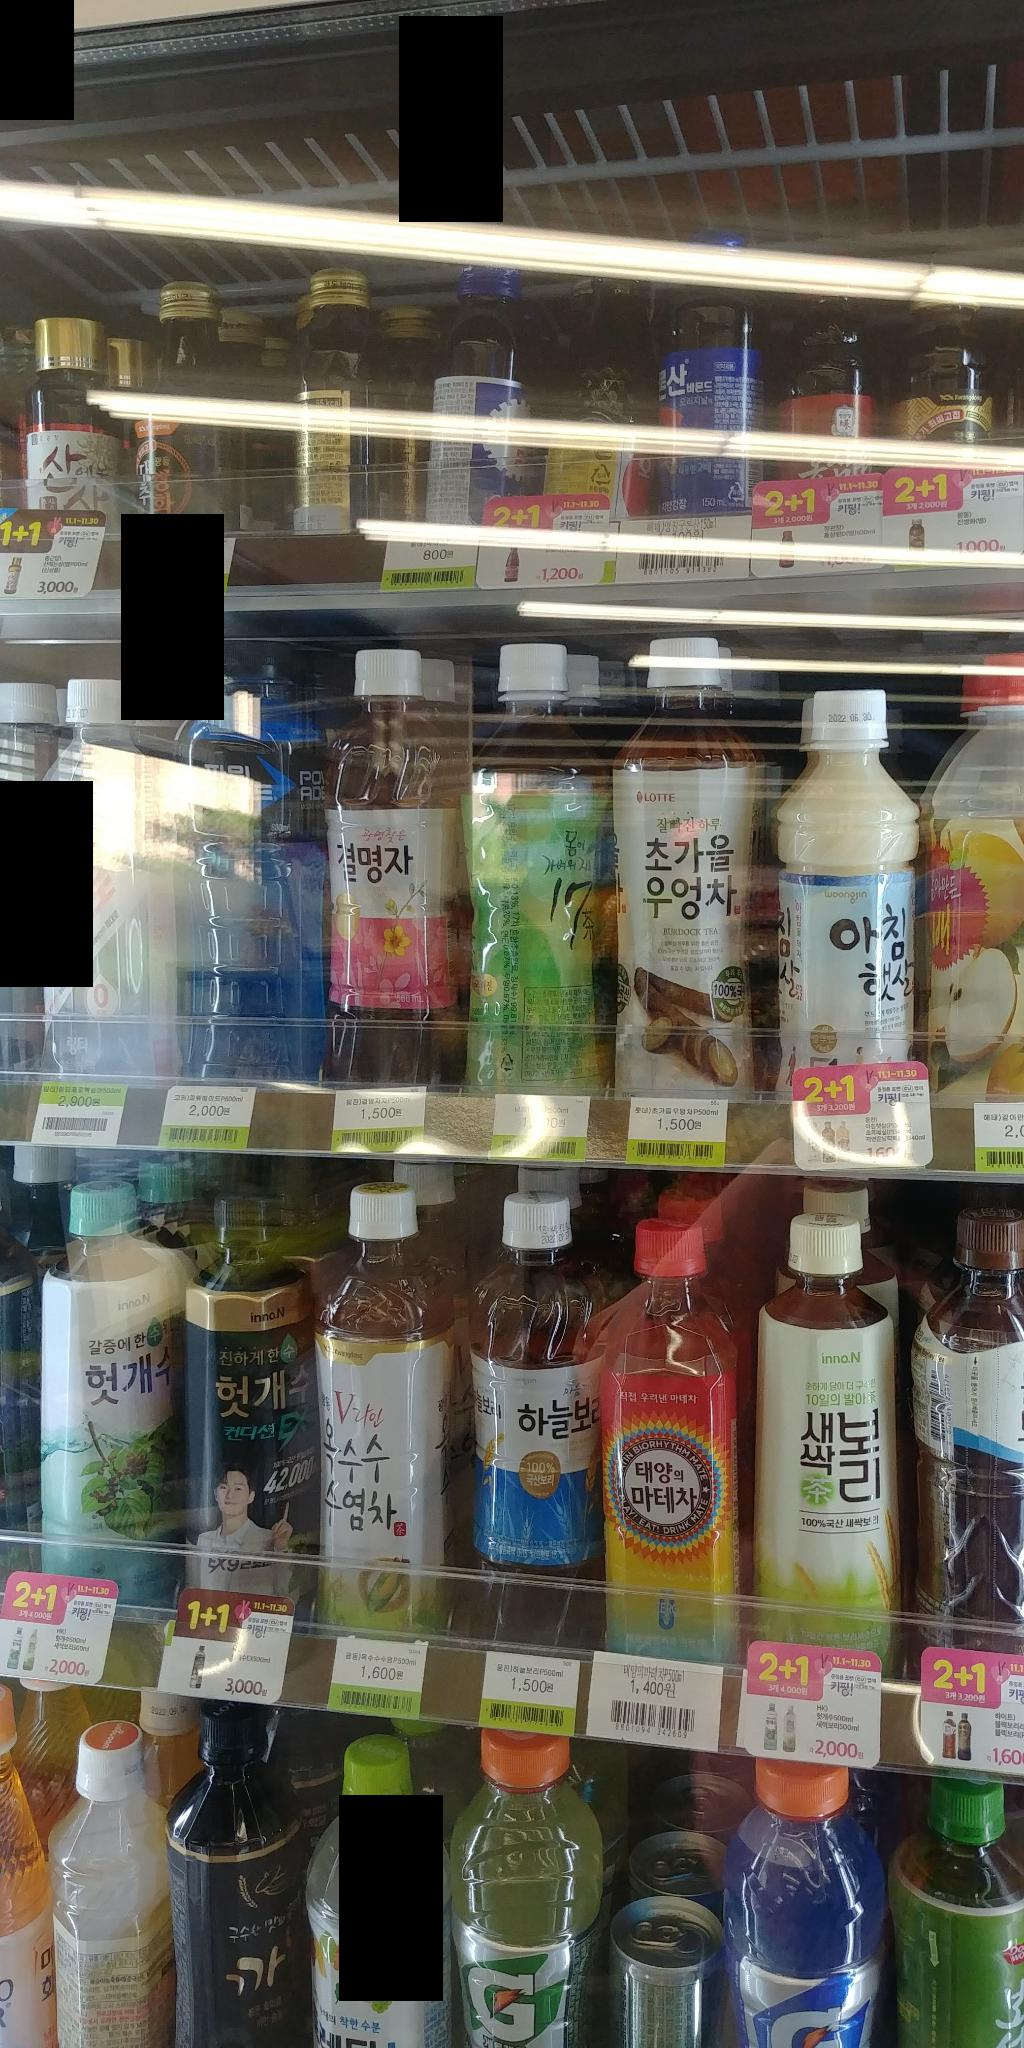gatorade_lemon: (441, 1719, 613, 2048)
haneulbori: (431, 1161, 613, 1648)
oksususuyeomcha: (294, 1164, 462, 1638)
powerade_mountainblast: (161, 626, 332, 1105)
